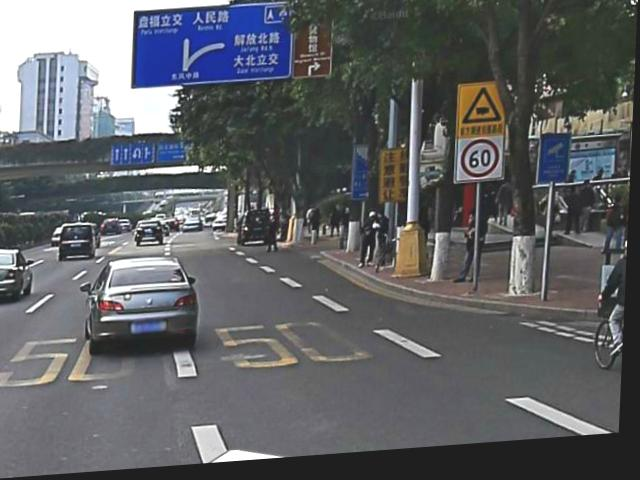limit60: (462, 145, 504, 188)
